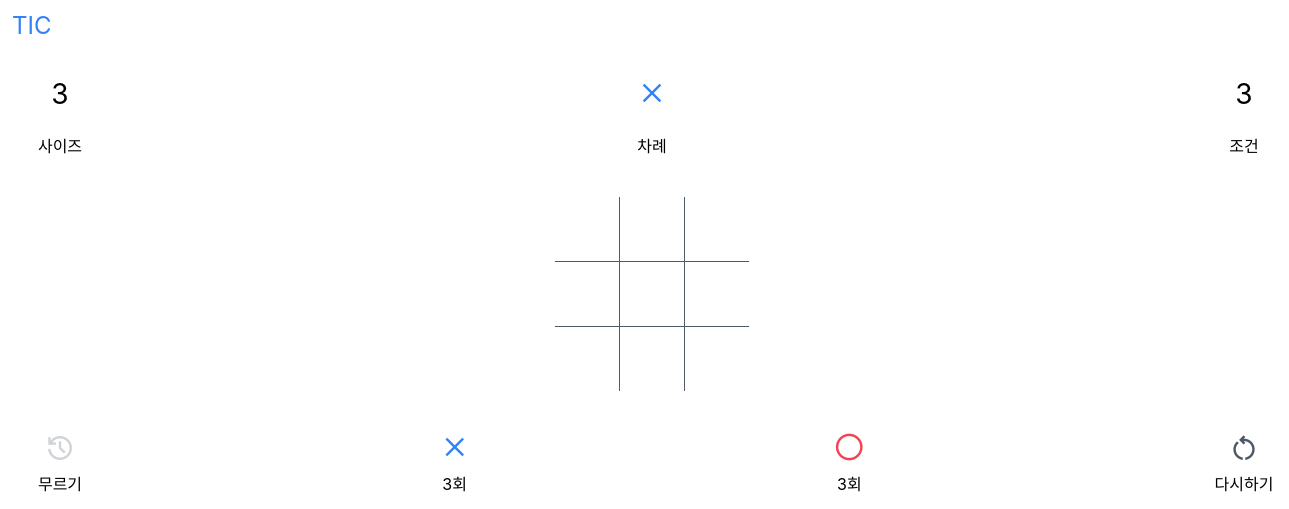
Test: 보드 페이지 테스트 › 플레이어 1이 가로줄을 완성한다.
The width and height of the screenshot is (1289, 509).
Click the element with test id "cell-0-0": point(588, 230) [555,197,620,262]
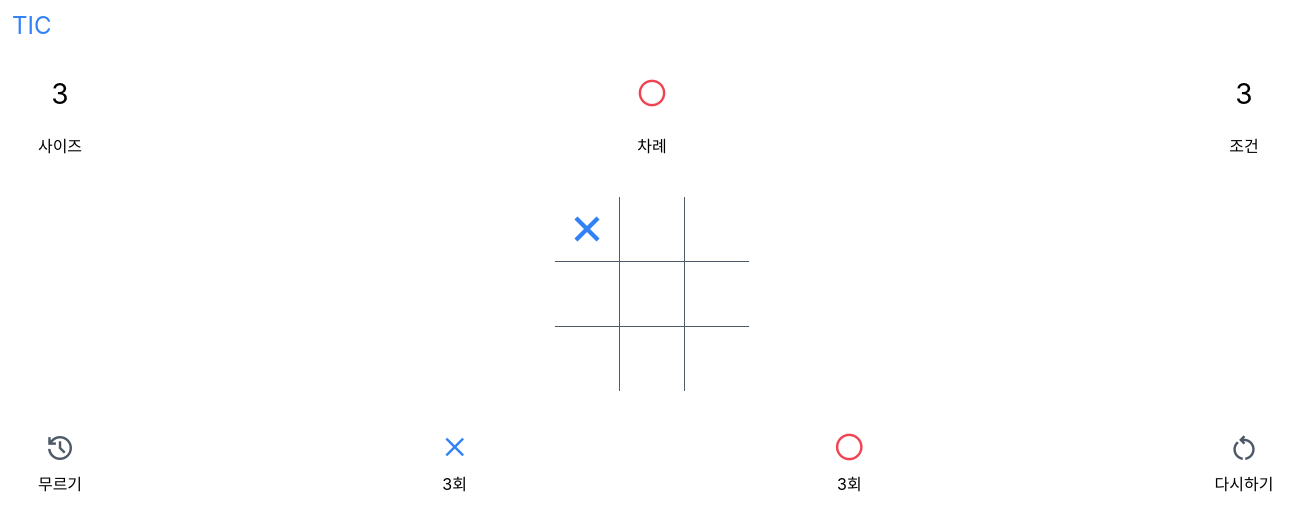
Click the element with test id "cell-1-0": point(588, 294) [555,262,620,327]
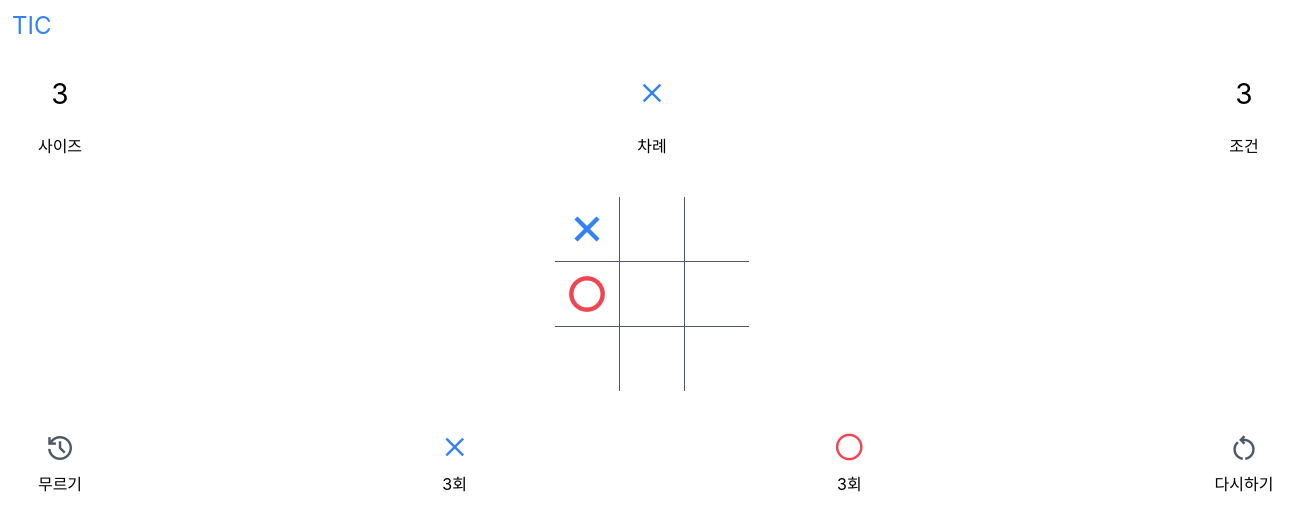
Click the element with test id "cell-0-1": point(652, 230) [620,197,685,262]
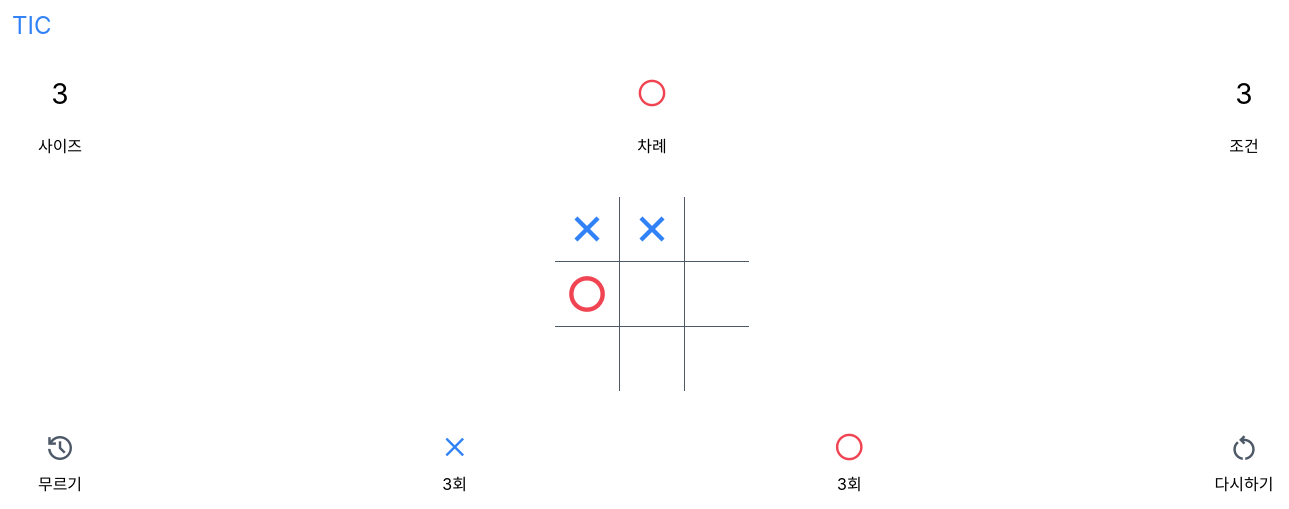
Click the element with test id "cell-1-1": point(652, 294) [620,262,685,327]
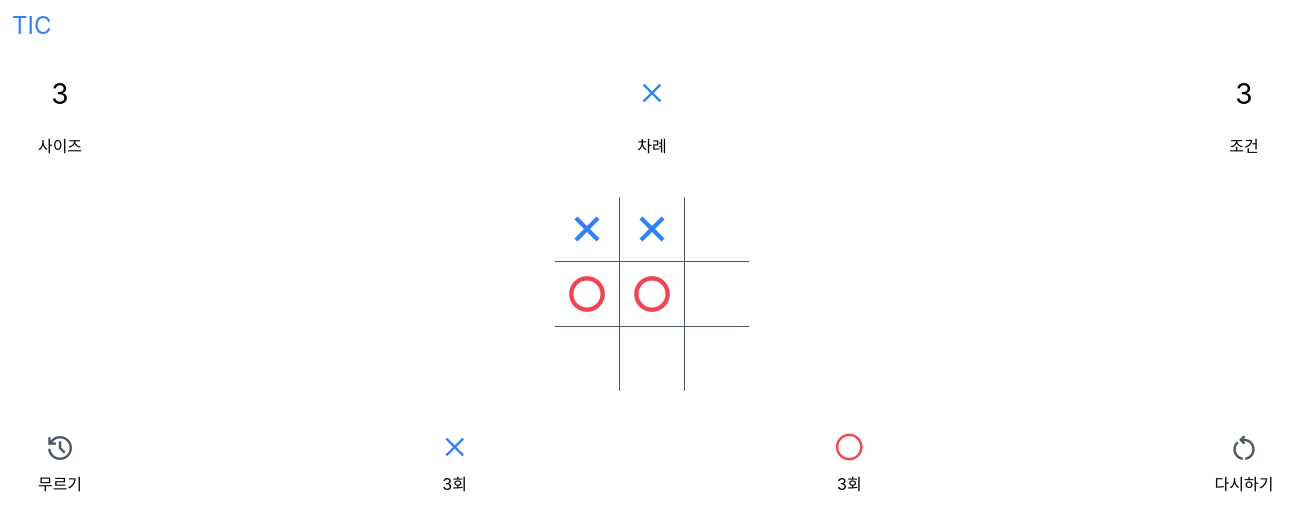
Click the element with test id "cell-0-2": point(717, 230) [685,197,749,262]
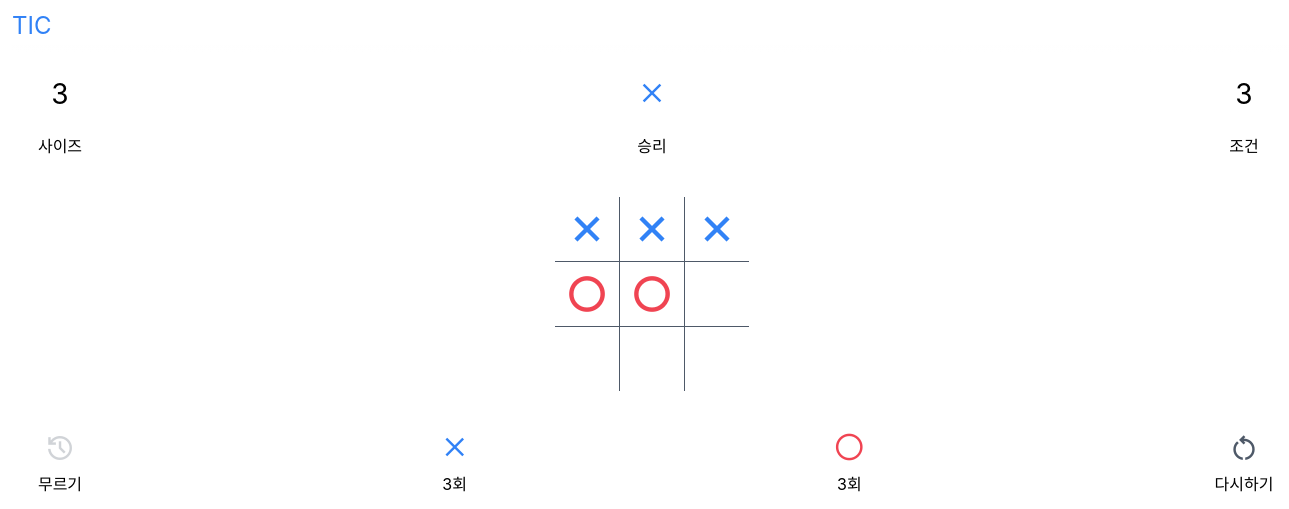
Result: the text "승리" is shown at [637,136,667,156]
